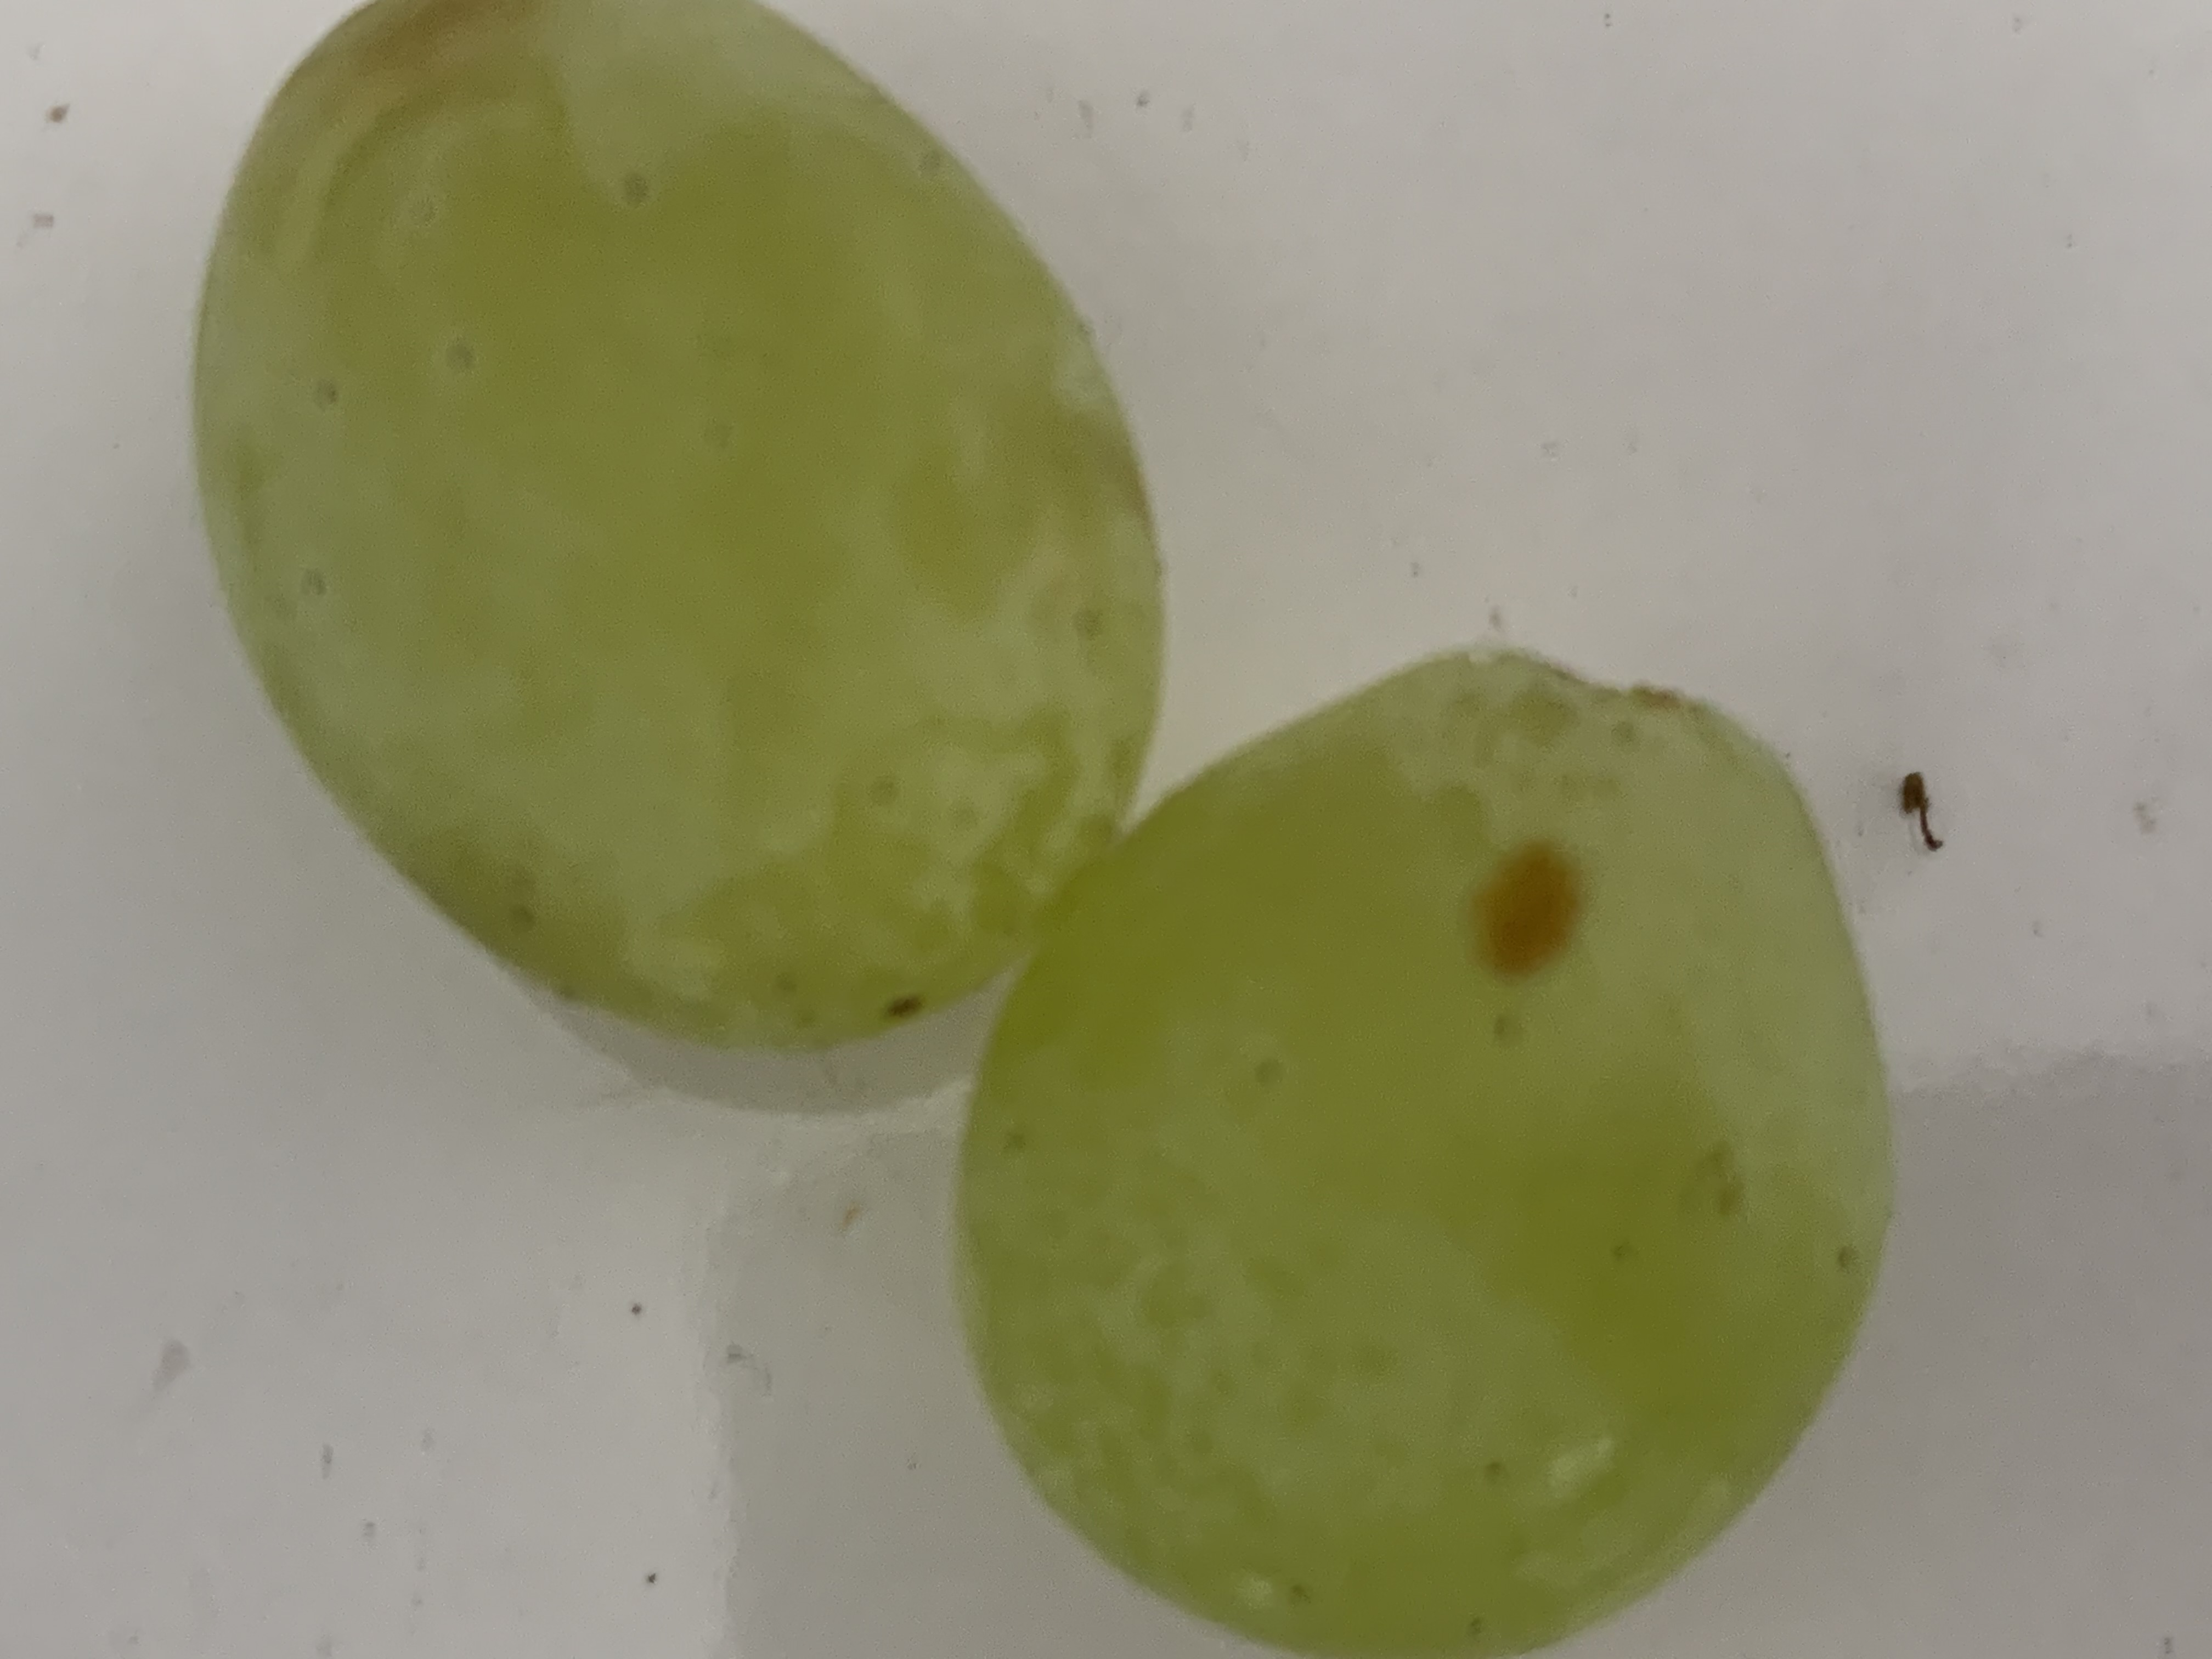grapes: (197, 3, 1167, 1061), (961, 653, 1893, 1617)
